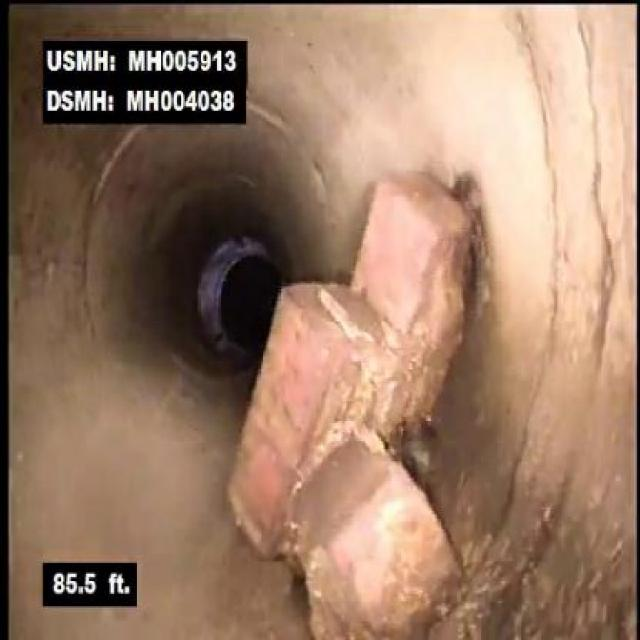Obstacle: (199, 126, 503, 639)
